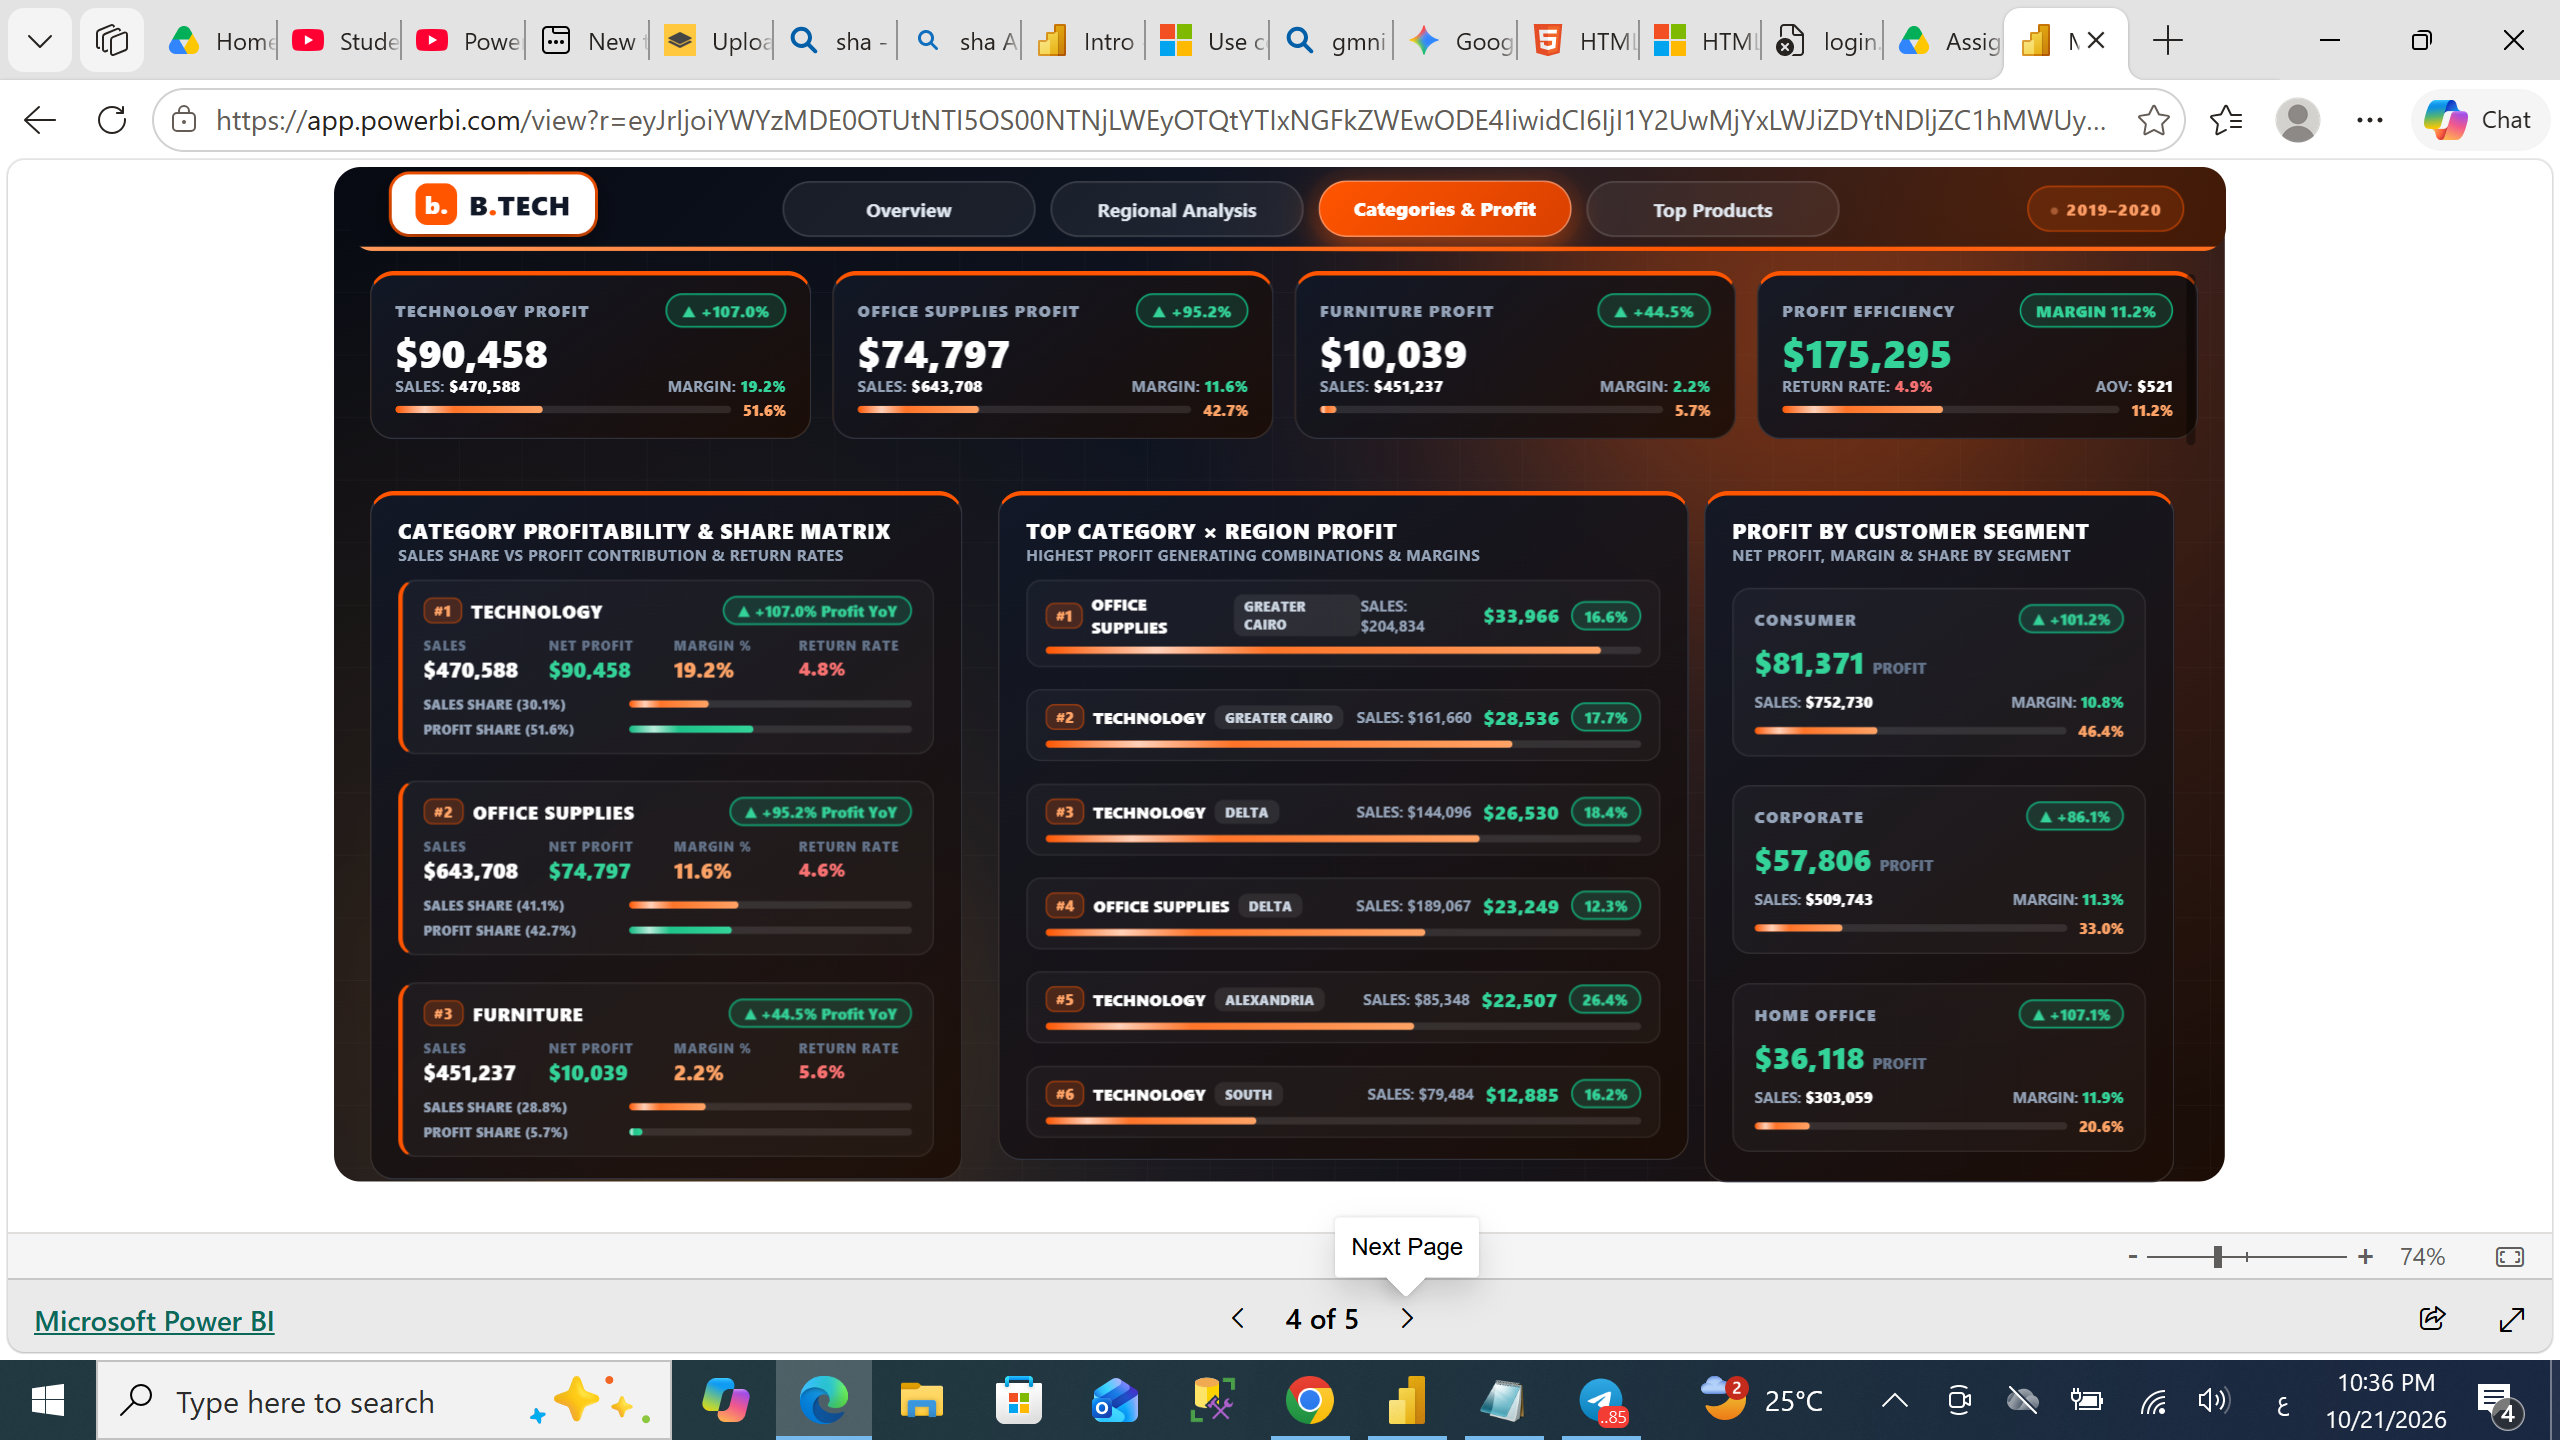

The dashboard page shown, as its layout file describes it:
{"tool":"powerbi","page":{"name":"Categories & Profit","canvas":[1280,720],"ordinal":3},"visuals":[{"type":"htmlContent443BE3AD55E043BF878BED274D3A6855","fields":{"content":["Dax (2).Bg_Page"]},"box":[0,0,1280,720],"z":0},{"type":"htmlContent443BE3AD55E043BF878BED274D3A6855","fields":{"content":["Dax (2).Nav_Categories"]},"box":[10.2,0,1270,70],"z":1000},{"type":"actionButton","box":[40.9,10.2,139.8,51.1],"z":2000},{"type":"actionButton","box":[323.7,12.7,139.6,50.8],"z":3000},{"type":"actionButton","box":[490.8,0,171.4,61.4],"z":4000},{"type":"actionButton","box":[833.6,2.1,171.4,61.4],"z":5000},{"type":"htmlContent443BE3AD55E043BF878BED274D3A6855","fields":{"content":["Dax (2).Cat_KPI_Cards"]},"box":[24,70,1238,130],"z":5001},{"type":"htmlContent443BE3AD55E043BF878BED274D3A6855","fields":{"content":["Dax (2).Chart_Category_Profit_Matrix"]},"box":[24,218,408,502],"z":5002},{"type":"htmlContent443BE3AD55E043BF878BED274D3A6855","fields":{"content":["Dax (2).Chart_Cat_Region_Profit"]},"box":[446,218,474,488],"z":5003},{"type":"htmlContent443BE3AD55E043BF878BED274D3A6855","fields":{"content":["Dax (2).Chart_Segment_Profit"]},"box":[920,218,326,504],"z":5004}]}

Visuals, with their boxes on the page's 1280x720 design canvas (x1, y1, x2, y2). These are canvas units, not pixel positions in the 2560x1440 screenshot, which may show the page scaled, cropped or inside an application window:
htmlContent443BE3AD55E043BF878BED274D3A6855 - Dax (2).Bg_Page: {"x1": 0, "y1": 0, "x2": 1280, "y2": 720}
htmlContent443BE3AD55E043BF878BED274D3A6855 - Dax (2).Nav_Categories: {"x1": 10, "y1": 0, "x2": 1280, "y2": 70}
actionButton: {"x1": 41, "y1": 10, "x2": 181, "y2": 61}
actionButton: {"x1": 324, "y1": 13, "x2": 463, "y2": 64}
actionButton: {"x1": 491, "y1": 0, "x2": 662, "y2": 61}
actionButton: {"x1": 834, "y1": 2, "x2": 1005, "y2": 64}
htmlContent443BE3AD55E043BF878BED274D3A6855 - Dax (2).Cat_KPI_Cards: {"x1": 24, "y1": 70, "x2": 1262, "y2": 200}
htmlContent443BE3AD55E043BF878BED274D3A6855 - Dax (2).Chart_Category_Profit_Matrix: {"x1": 24, "y1": 218, "x2": 432, "y2": 720}
htmlContent443BE3AD55E043BF878BED274D3A6855 - Dax (2).Chart_Cat_Region_Profit: {"x1": 446, "y1": 218, "x2": 920, "y2": 706}
htmlContent443BE3AD55E043BF878BED274D3A6855 - Dax (2).Chart_Segment_Profit: {"x1": 920, "y1": 218, "x2": 1246, "y2": 722}
